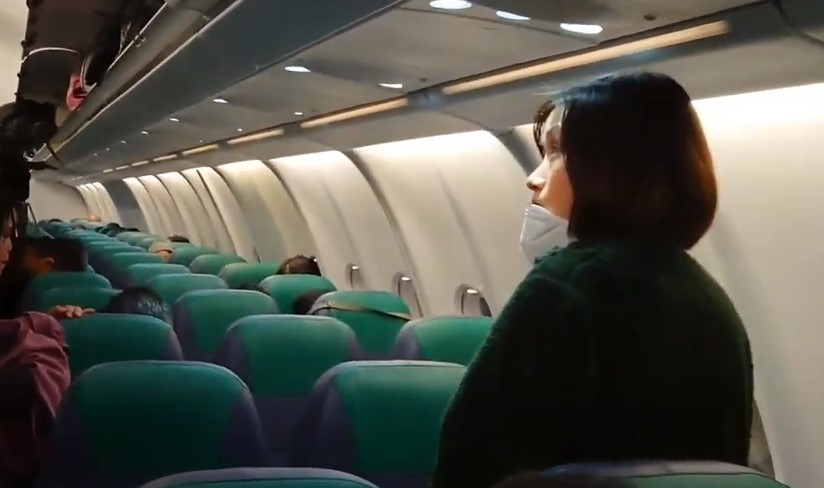face_with_mask: (516, 68, 638, 265)
